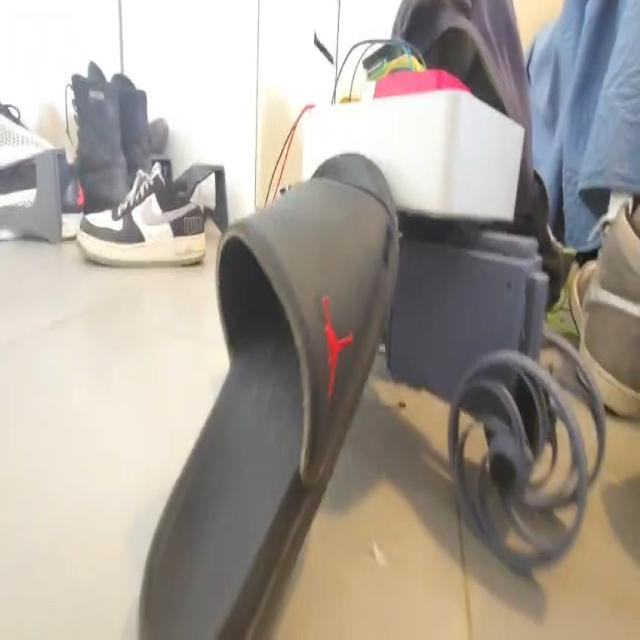Robot: (299, 64, 611, 579)
